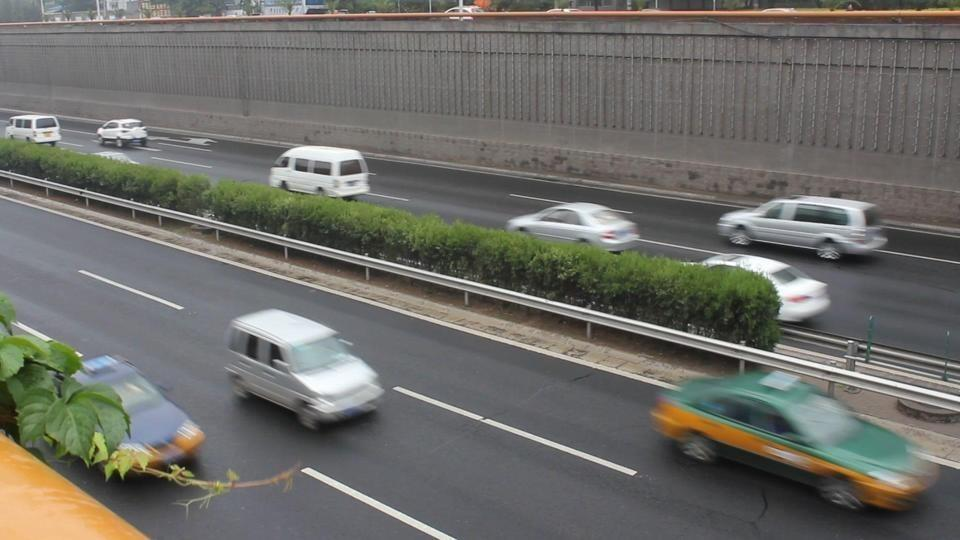car: (649, 367, 942, 515), (27, 351, 208, 486), (224, 305, 386, 428), (715, 195, 889, 261), (697, 253, 834, 323), (505, 203, 641, 254), (269, 144, 371, 200), (1, 114, 62, 146), (96, 118, 149, 149)
